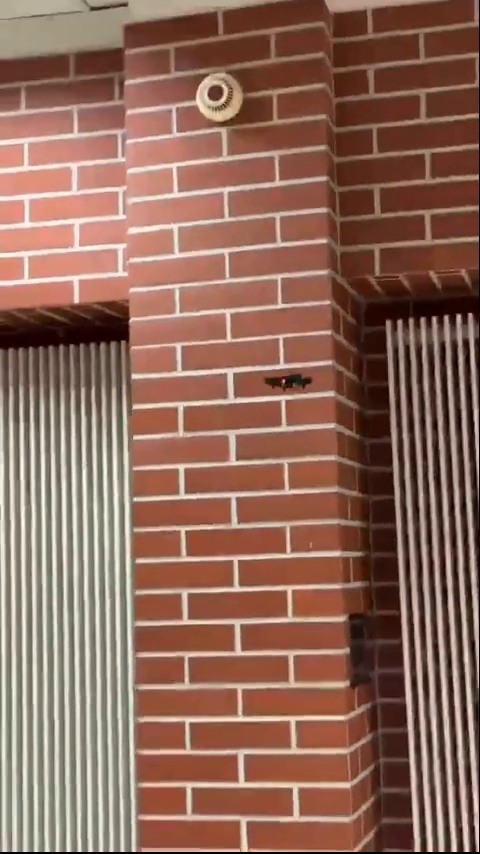drone: (261, 366, 315, 391)
